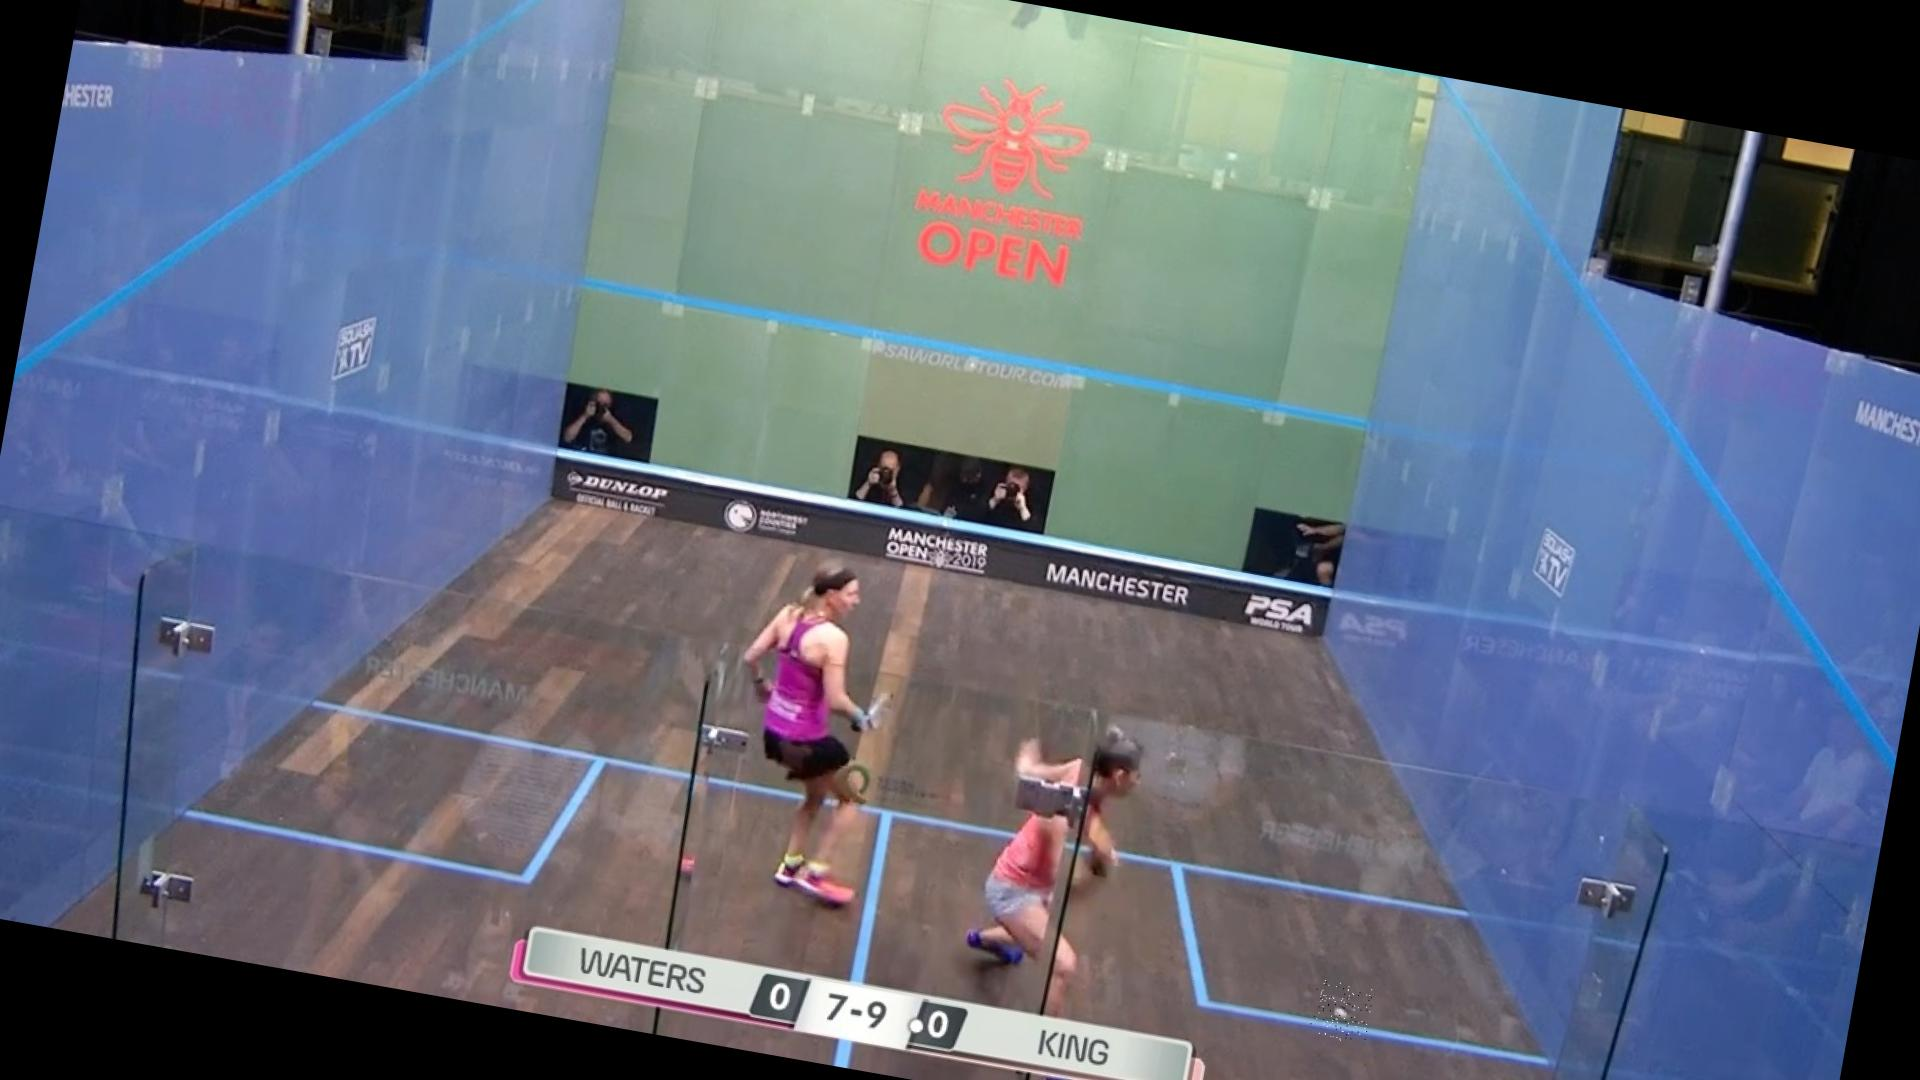Squash-Ball: (1308, 978, 1374, 1044)
